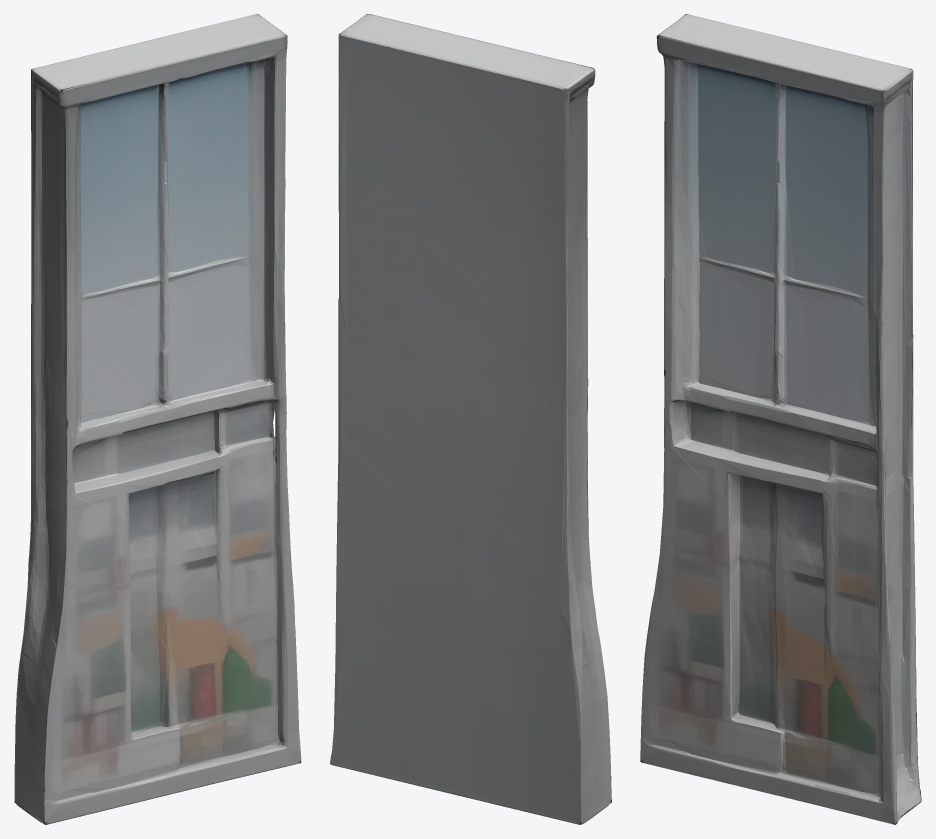
Rendered from window1-optimized.glb.
3 views of the same model, side by side, from view 1: azimuth 30°, elevation 25°; view 2: azimuth 150°, elevation 25°; view 3: azimuth 330°, elevation 25° (orthographic).
Parts seen in each view (by area): view 1: geometry_0; view 2: geometry_0; view 3: geometry_0.
Part boxes in pixels (x1,y1,x2,y2): geometry_0: [14, 14, 301, 824]; geometry_0: [330, 14, 611, 824]; geometry_0: [640, 14, 921, 824].
Bounding box in the file's own units: 0.3673 × 1 × 0.0782.
1 material, 1 textured.
